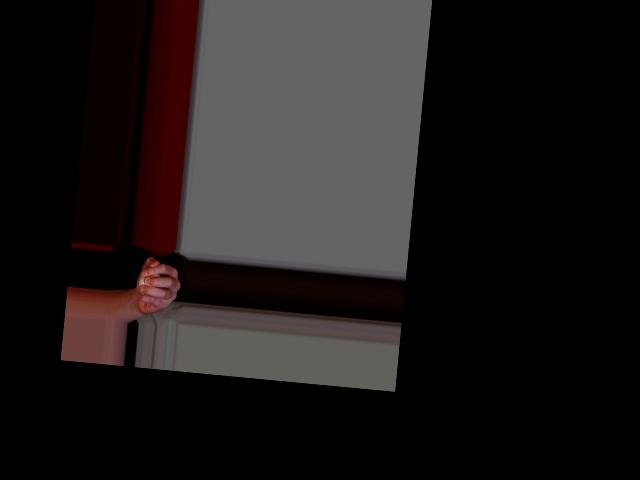egg: (137, 269, 163, 296)
